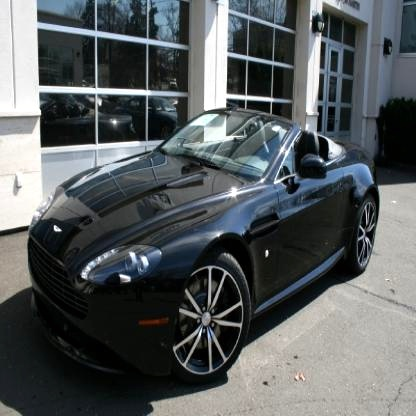Vehicle: (28, 110, 379, 386)
